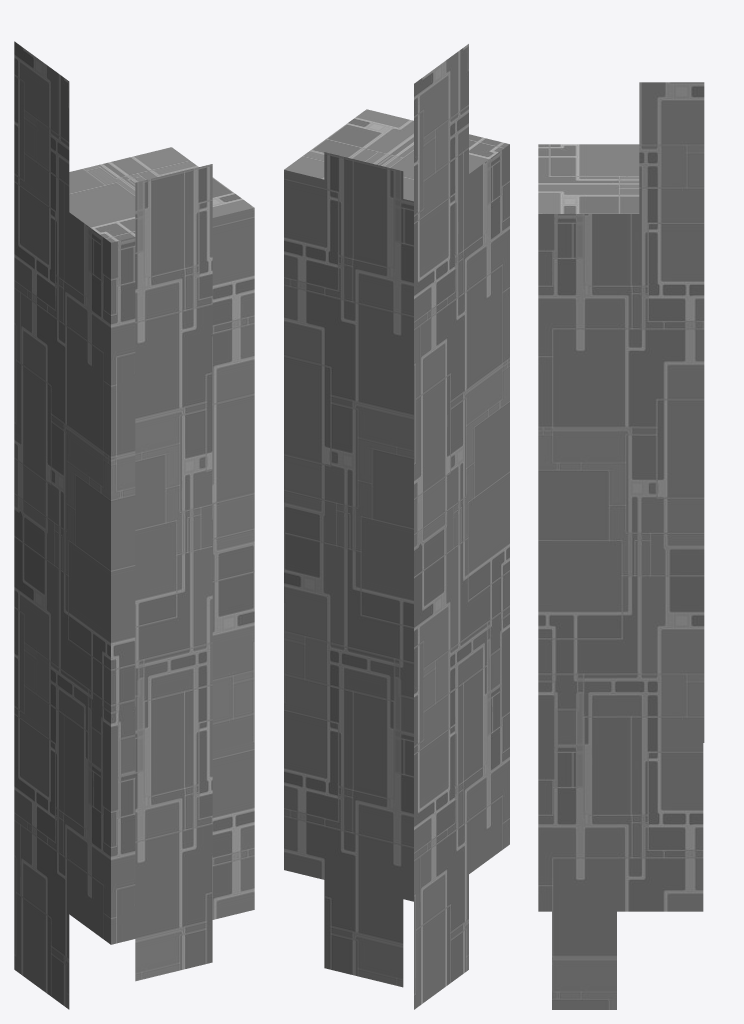
Rendered from SM_architecture_module_02.glb.
3 views of the same model, side by side, from view 1: azimuth 30°, elevation 25°; view 2: azimuth 150°, elevation 25°; view 3: azimuth 270°, elevation 25° (orthographic).
Visible parts, largest first — view 1: SM_architecture_module_02; view 2: SM_architecture_module_02; view 3: SM_architecture_module_02.
Boxes of the visible parts, x1,y1,x2,y2 form: SM_architecture_module_02: (14,41,254,1009); SM_architecture_module_02: (284,44,509,1009); SM_architecture_module_02: (538,82,704,1009).
Bounding box in the file's own units: 1.13 × 7.01 × 1.32.
2 materials, 2 textured.
